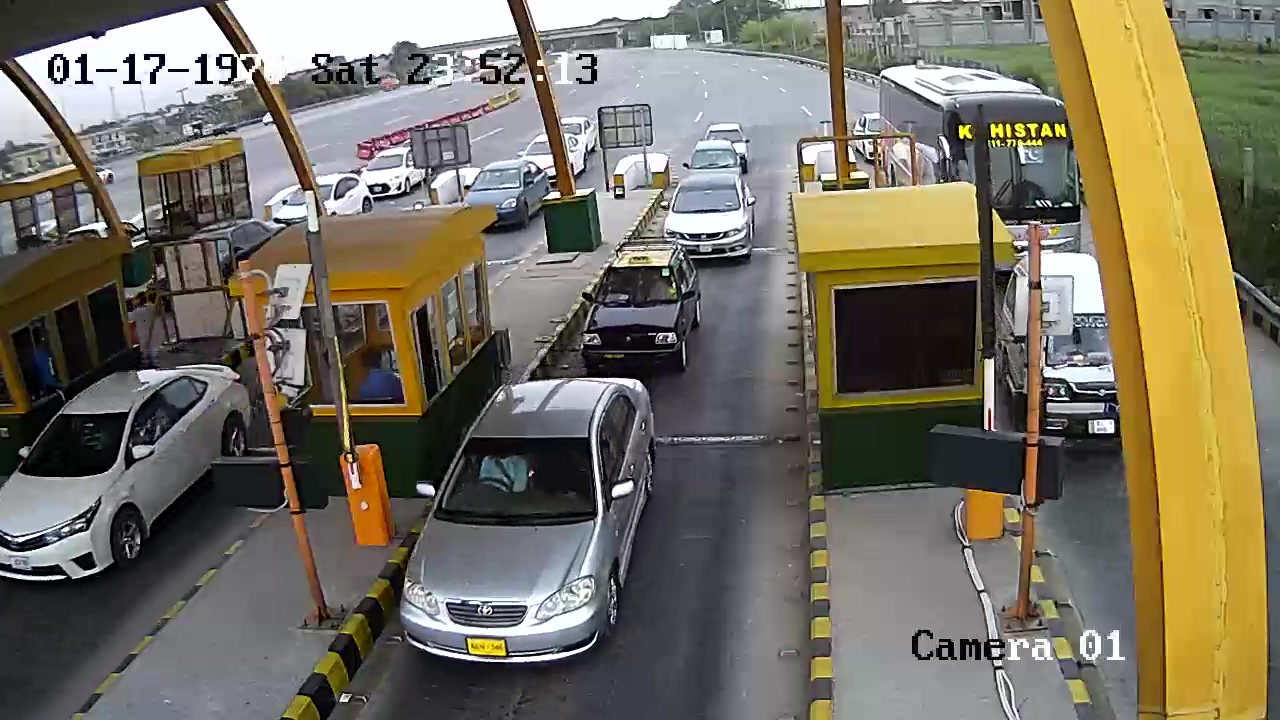F1: (393, 373, 672, 679)
